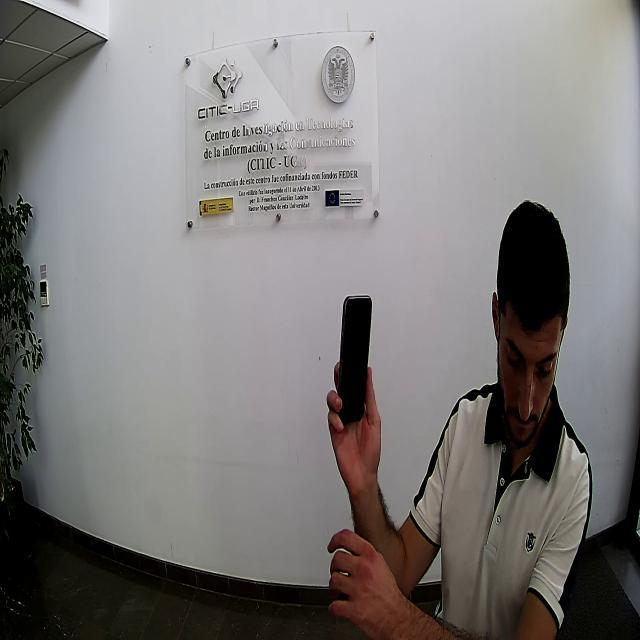phone: (341, 292, 374, 424)
